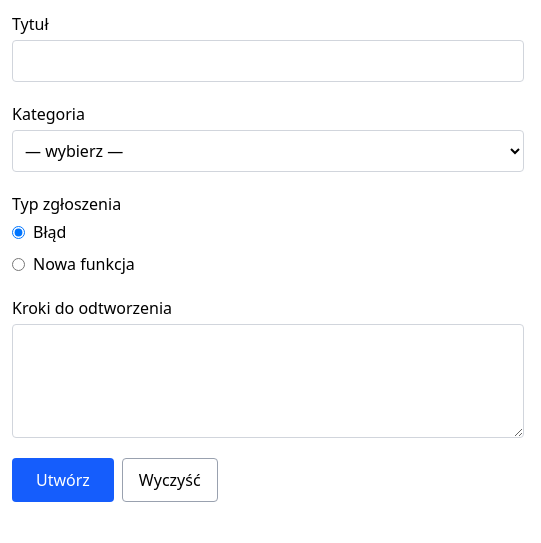
Test: TicketForm — pole zależne od typu › validates the field belonging to the selected variant
Click the radio button labelled "Nowa funkcja" at (18, 264), box [12,258,25,270]
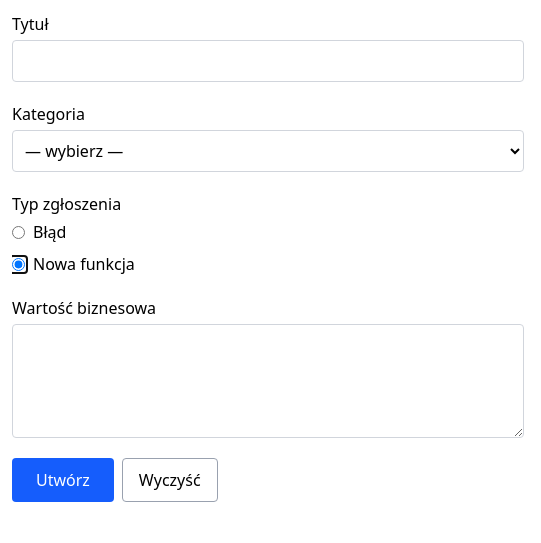
Type "Eksport CSV" into the field labelled "Tytuł" at (268, 61), box [12,40,524,82]
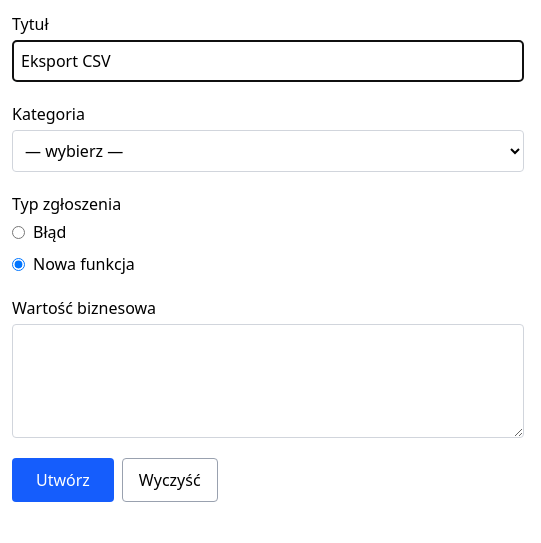
Select "API" in the dropdown labelled "Kategoria" at (268, 151), box [12,130,524,172]
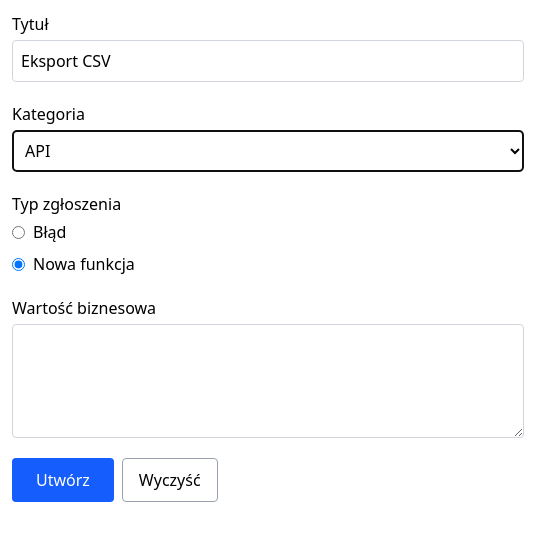
Type "krótkie" into the text box labelled "Wartość biznesowa" at (268, 381), box [12,324,524,438]
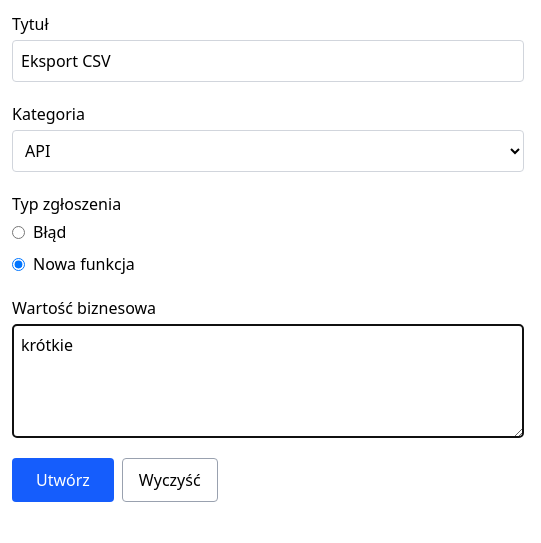
Click the button "Utwórz" at (63, 480), box [12,458,114,502]
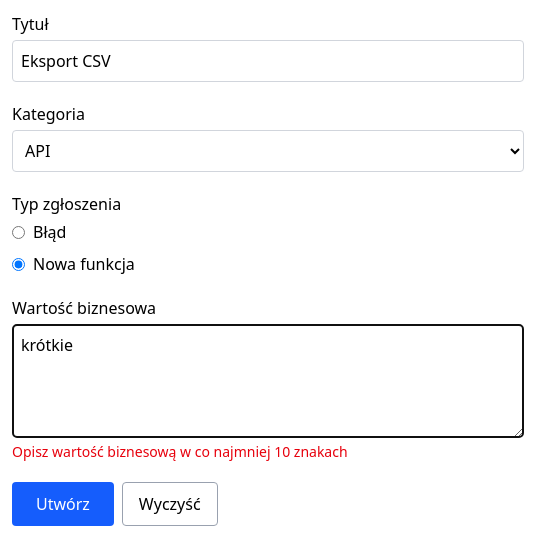
Expected: the text "Opisz wartość biznesową w co najmniej 10 znakach" is shown, [12,442,348,461]
